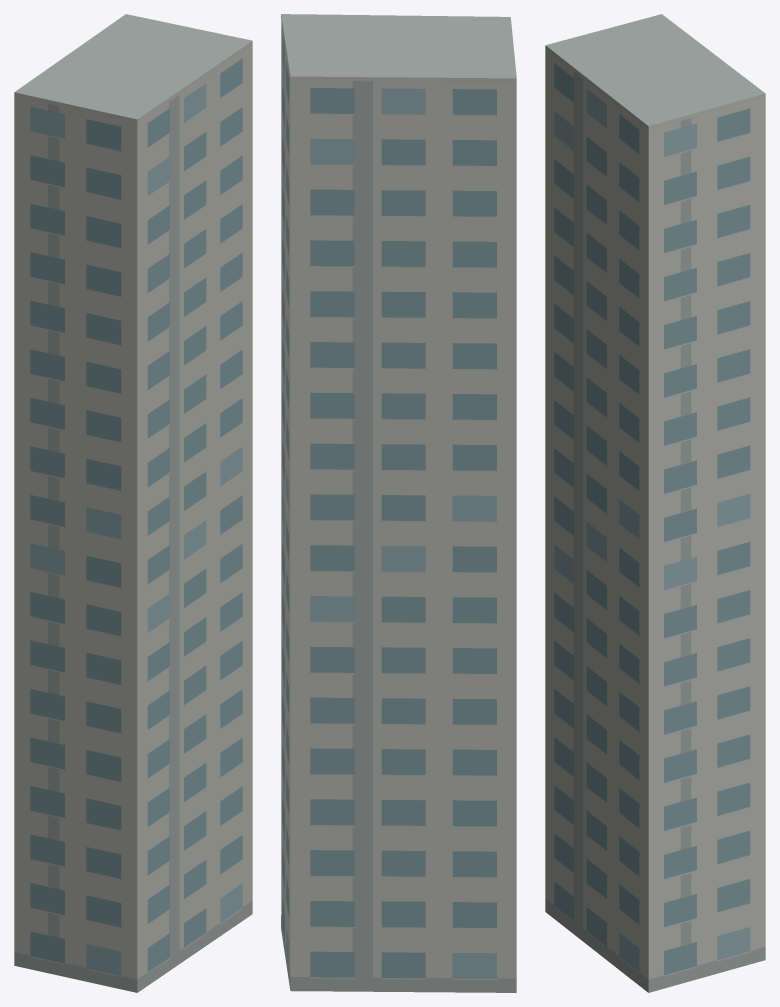
The model's file is survey-upis-32980796.glb.
3 renders of one model, left to right at view 1: azimuth 30°, elevation 25°; view 2: azimuth 150°, elevation 25°; view 3: azimuth 270°, elevation 25°, orthographic. The views are drawn at different scales.
Visible parts, largest first — view 1: survey-upis-32980796.tmp; view 2: survey-upis-32980796.tmp; view 3: survey-upis-32980796.tmp.
Boxes of the visible parts, x1,y1,x2,y2 form: survey-upis-32980796.tmp: (14,14,252,992); survey-upis-32980796.tmp: (281,14,516,992); survey-upis-32980796.tmp: (545,14,765,992).
Bounding box in the file's own units: 15.25 × 54.9 × 12.65.
